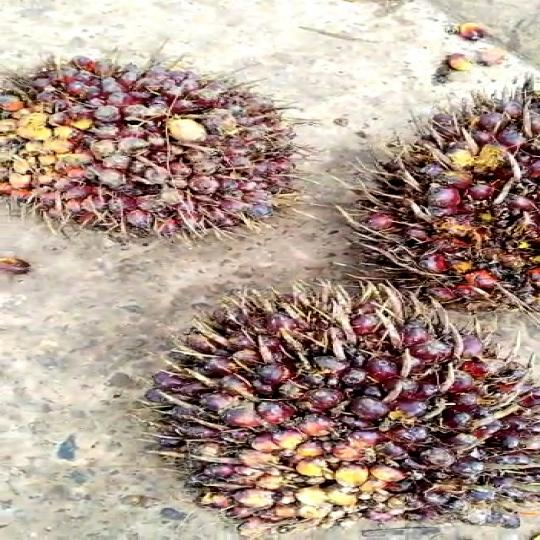masak: (0, 33, 328, 258), (324, 67, 540, 324)
